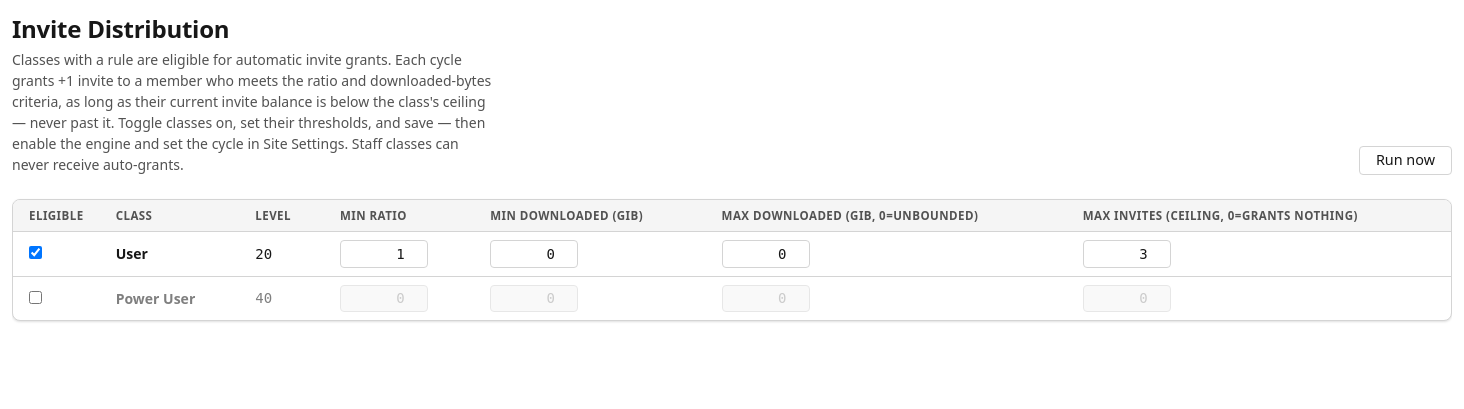
Test: AdminInviteDistributionPage › shows the save bar only after a change
Expected: the text "User" is shown, x1=100 y1=232 x2=239 y2=276
Expected: the button "Save changes" is not shown
Click the checkbox named "Include Power User in invite distribution".
click(36, 297)  # box x1=29 y1=291 x2=42 y2=304
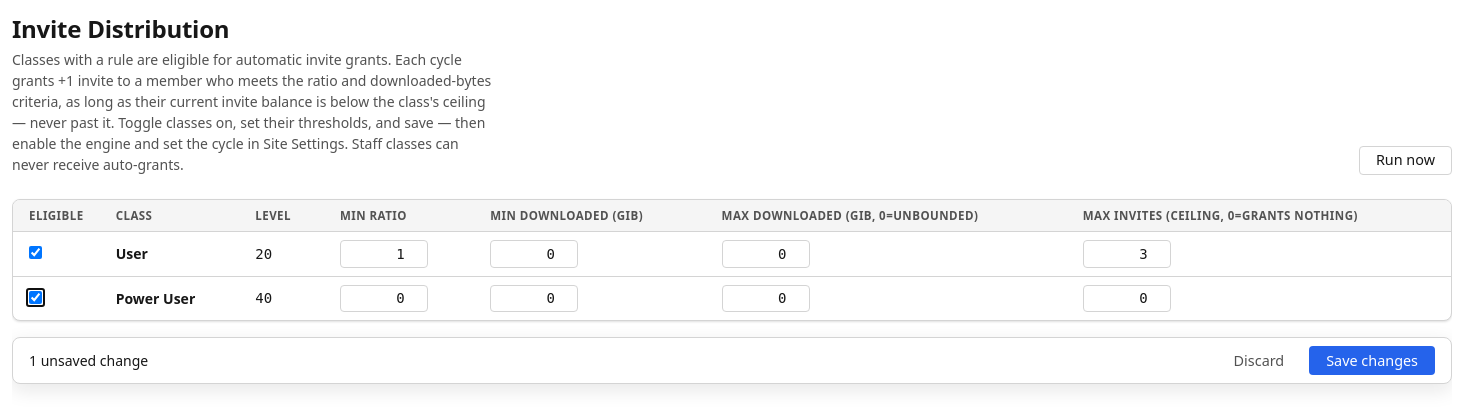
Expected: the button "Save changes" is shown, x1=1309 y1=346 x2=1435 y2=375
Expected: the text "1 unsaved change" is shown, x1=29 y1=351 x2=148 y2=370
